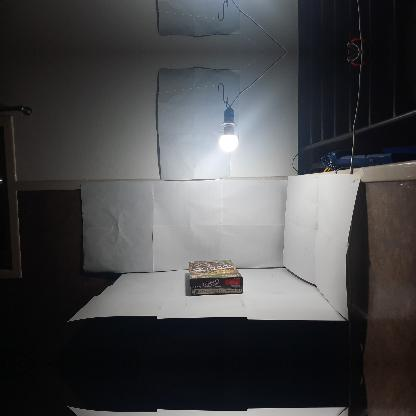Koko-Krunch: (189, 260, 244, 294)
